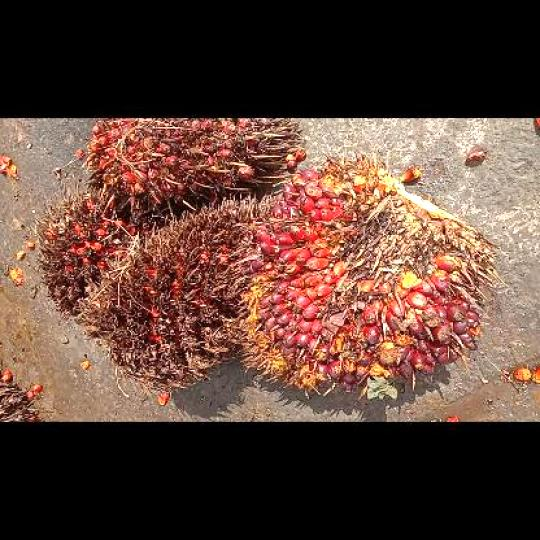masak: (233, 152, 504, 398), (81, 118, 301, 217)
terlalu masak: (77, 192, 276, 390), (36, 178, 156, 318)
